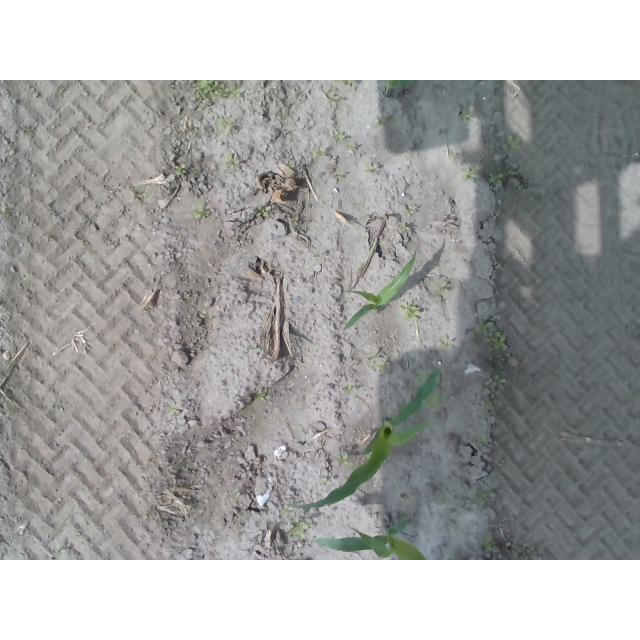Maize: (297, 366, 446, 514), (340, 250, 418, 329), (313, 518, 428, 560), (383, 81, 414, 100)
Weeds: (478, 319, 506, 350), (194, 80, 243, 97), (293, 515, 312, 541), (400, 301, 420, 323), (367, 351, 385, 375), (126, 184, 150, 200), (502, 134, 522, 152), (334, 450, 354, 467), (480, 531, 496, 552), (192, 197, 207, 219), (489, 374, 507, 391), (426, 394, 442, 410), (472, 490, 488, 506), (414, 367, 429, 384), (311, 143, 326, 159), (441, 337, 456, 352), (225, 153, 240, 168), (489, 171, 504, 185), (280, 504, 293, 519), (463, 168, 478, 181), (255, 205, 270, 217), (216, 119, 232, 130), (367, 161, 378, 176), (174, 164, 186, 177), (478, 434, 490, 446), (167, 402, 178, 415), (342, 385, 354, 396), (334, 130, 346, 141), (256, 391, 269, 401), (462, 111, 472, 123), (397, 221, 407, 231), (406, 207, 415, 218), (334, 80, 354, 84), (436, 287, 449, 293)
